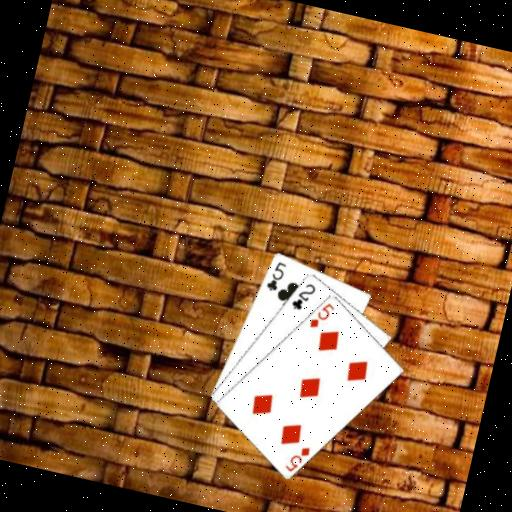2C: (288, 277, 319, 314)
5C: (263, 257, 289, 294)
5D: (306, 296, 338, 333), (281, 440, 313, 477)
